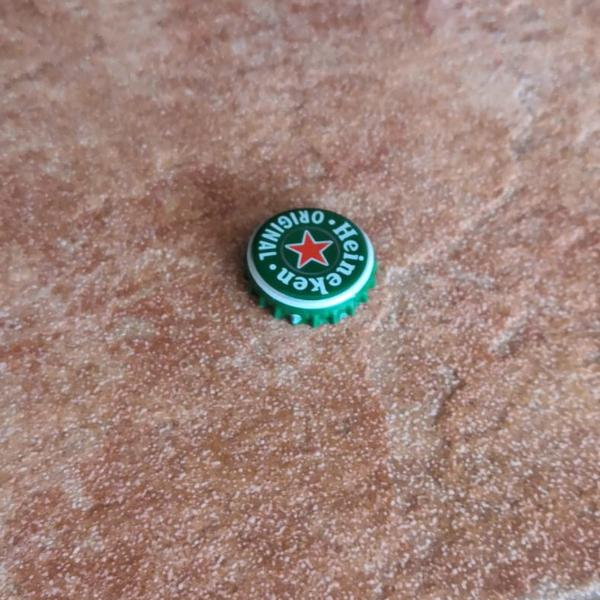heineken: (245, 202, 379, 326)
